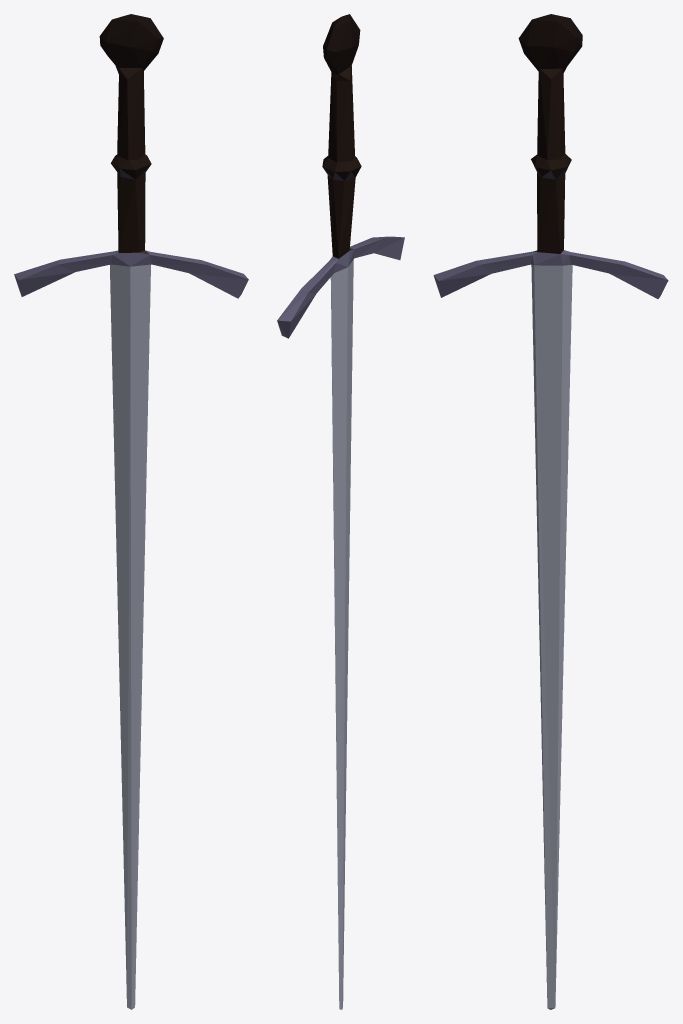
Rendered from Miecz.fbx.
3 renders of one model, left to right at view 1: azimuth 90°, elevation 25°; view 2: azimuth 150°, elevation 25°; view 3: azimuth 270°, elevation 25°, orthographic.
Parts seen in each view (by area): view 1: Miecz_poltorareczny; view 2: Miecz_poltorareczny; view 3: Miecz_poltorareczny.
Part boxes in pixels (x1,y1,x2,y2): Miecz_poltorareczny: [14, 14, 248, 1009]; Miecz_poltorareczny: [277, 14, 404, 1009]; Miecz_poltorareczny: [433, 14, 668, 1009].
Size of the model in its own units: 29.03 by 136 by 5.15.
